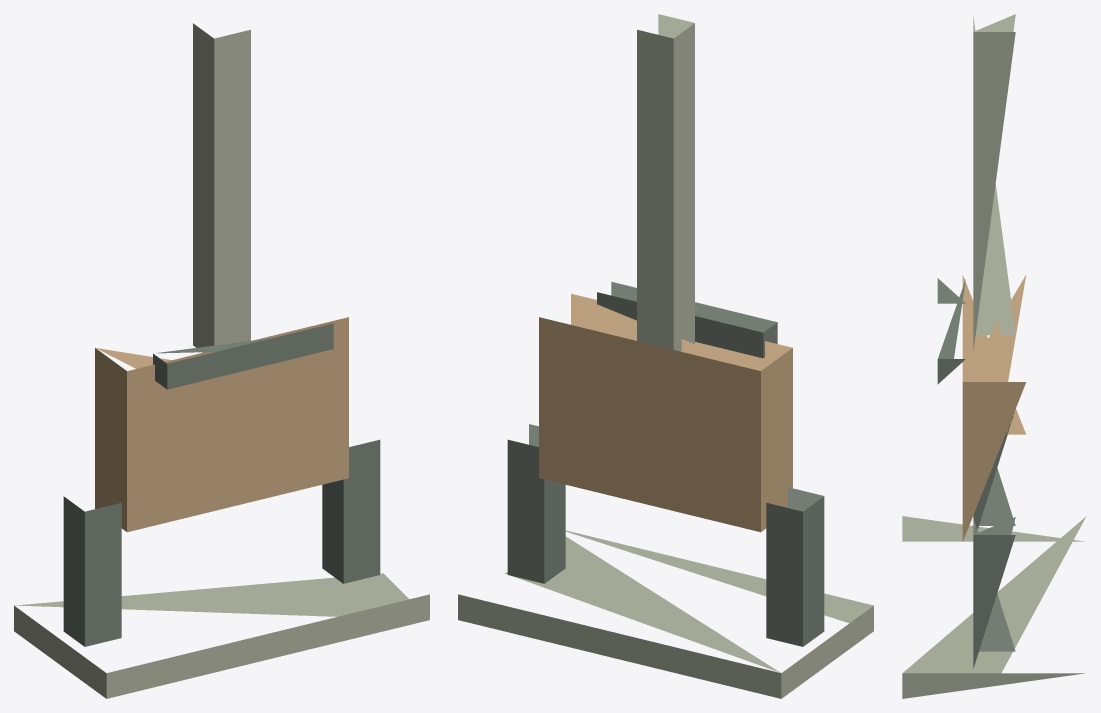
The picture shows the model from 3 angles, left to right: view 1: azimuth 30°, elevation 25°; view 2: azimuth 150°, elevation 25°; view 3: azimuth 270°, elevation 25°; orthographic projection.
Visible parts, largest first — view 1: warm soundbox, listening base, neck marker, left resonance foot, right resonance foot, bridge marker; view 2: warm soundbox, listening base, neck marker, left resonance foot, right resonance foot, bridge marker; view 3: listening base, neck marker, warm soundbox, right resonance foot, left resonance foot, bridge marker.
Boxes of the visible parts, x1,y1,x2,y2 form: warm soundbox: (95,317,348,532); listening base: (14,573,429,698); neck marker: (193,23,250,352); left resonance foot: (63,496,121,646); right resonance foot: (322,439,380,583); bridge marker: (153,323,333,389); warm soundbox: (539,293,792,532); listening base: (458,530,873,698); neck marker: (637,14,694,351); left resonance foot: (766,487,824,646); right resonance foot: (507,424,565,583); bridge marker: (597,281,777,358); listening base: (902,516,1086,698); neck marker: (973,14,1015,350); warm soundbox: (962,275,1026,541); right resonance foot: (973,517,1015,668); left resonance foot: (973,412,1015,529); bridge marker: (937,278,965,384).
Bounding box in the file's own units: 1.05 × 1.86 × 0.52.
